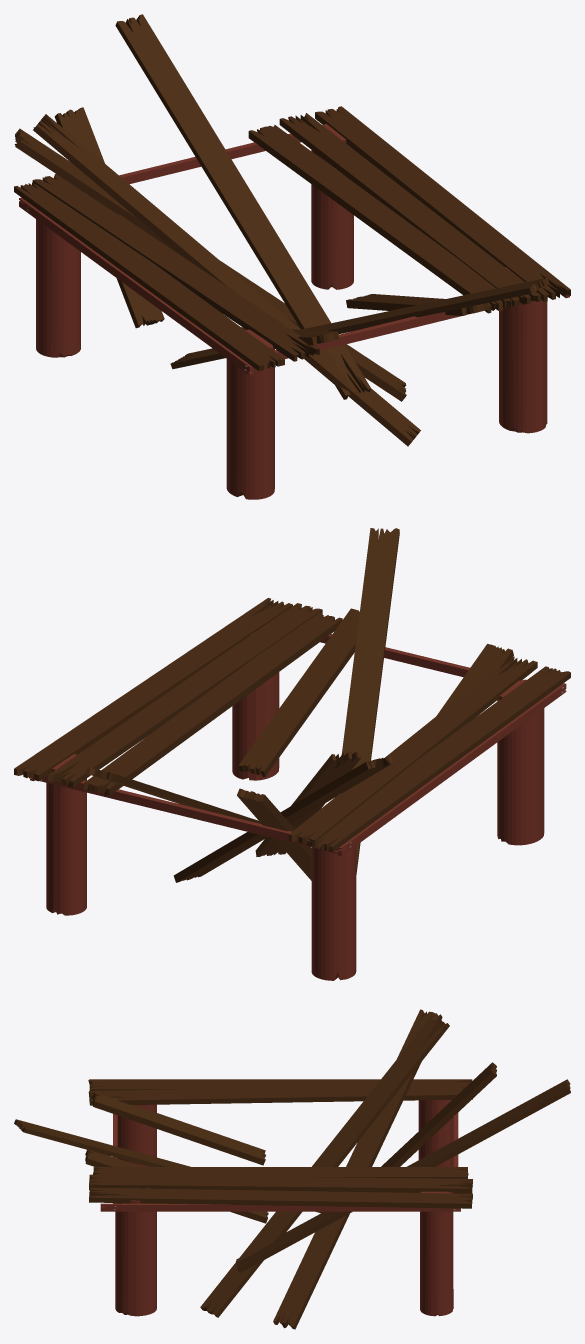
Rendered from deck square broken.fbx.
The picture shows the model from 3 angles, top to bottom: view 1: azimuth 30°, elevation 25°; view 2: azimuth 150°, elevation 25°; view 3: azimuth 270°, elevation 25°; orthographic projection. The views are drawn at different scales.
Visible parts, largest first — view 1: Cube.005, Cube.006, Cube.009, Cube.013, Cube.012, Cube.014, Cube.011, Cylinder.003, Cylinder.002, Cylinder, Cube.008, Cylinder.001 (+6 smaller); view 2: Cube.009, Cube.014, Cube.011, Cube.004, Cube.013, Cube.012, Cylinder, Cylinder.003, Cube.007, Cylinder.001, Cube.008, Cylinder.002 (+7 smaller); view 3: Cube.006, Cube.014, Cube.011, Cube.008, Cube.012, Cylinder.002, Cube.005, Cube.009, Cylinder.001, Cube.013, Cube.010, Cube (+5 smaller).
Part boxes in pixels (x1=…): Cube.005: x1=115, y1=14, x2=371, y2=399; Cube.006: x1=33, y1=114, x2=420, y2=446; Cube.009: x1=248, y1=125, x2=513, y2=313; Cube.013: x1=14, y1=182, x2=284, y2=371; Cube.012: x1=32, y1=174, x2=319, y2=361; Cube.014: x1=315, y1=106, x2=570, y2=301; Cube.011: x1=279, y1=113, x2=540, y2=307; Cylinder.003: x1=226, y1=329, x2=274, y2=499; Cylinder.002: x1=499, y1=267, x2=547, y2=433; Cylinder: x1=36, y1=219, x2=80, y2=357; Cube.008: x1=14, y1=128, x2=406, y2=401; Cylinder.001: x1=311, y1=124, x2=353, y2=289; Cube.009: x1=84, y1=613, x2=342, y2=795; Cube.014: x1=14, y1=598, x2=292, y2=781; Cube.011: x1=48, y1=603, x2=322, y2=787; Cube.004: x1=341, y1=528, x2=399, y2=874; Cube.013: x1=307, y1=666, x2=570, y2=852; Cube.012: x1=288, y1=656, x2=537, y2=846; Cylinder: x1=311, y1=846, x2=356, y2=980; Cylinder.003: x1=497, y1=679, x2=544, y2=845; Cube.007: x1=238, y1=608, x2=359, y2=776; Cylinder.001: x1=46, y1=754, x2=86, y2=915; Cube.008: x1=173, y1=755, x2=393, y2=882; Cylinder.002: x1=232, y1=632, x2=279, y2=780; Cube.006: x1=200, y1=1015, x2=449, y2=1317; Cube.014: x1=89, y1=1187, x2=472, y2=1208; Cube.011: x1=89, y1=1174, x2=472, y2=1193; Cube.008: x1=273, y1=1009, x2=442, y2=1329; Cube.012: x1=88, y1=1084, x2=472, y2=1105; Cylinder.002: x1=115, y1=1188, x2=156, y2=1316; Cube.005: x1=236, y1=1079, x2=570, y2=1272; Cube.009: x1=93, y1=1167, x2=468, y2=1178; Cylinder.001: x1=420, y1=1191, x2=453, y2=1316; Cube.013: x1=88, y1=1079, x2=472, y2=1090; Cube.010: x1=92, y1=1091, x2=265, y2=1165; Cube: x1=100, y1=1203, x2=460, y2=1211.
Bounding box in the file's own units: 2747 × 1972 × 4739.
